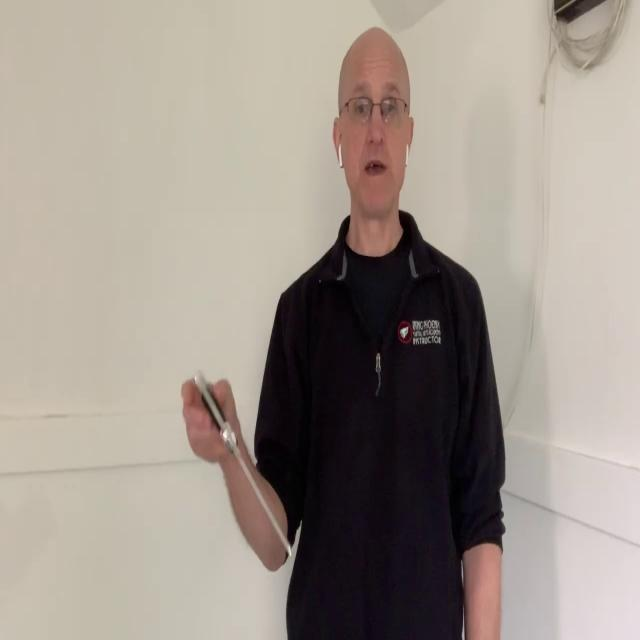Knife_Handle: (178, 371, 292, 561)
